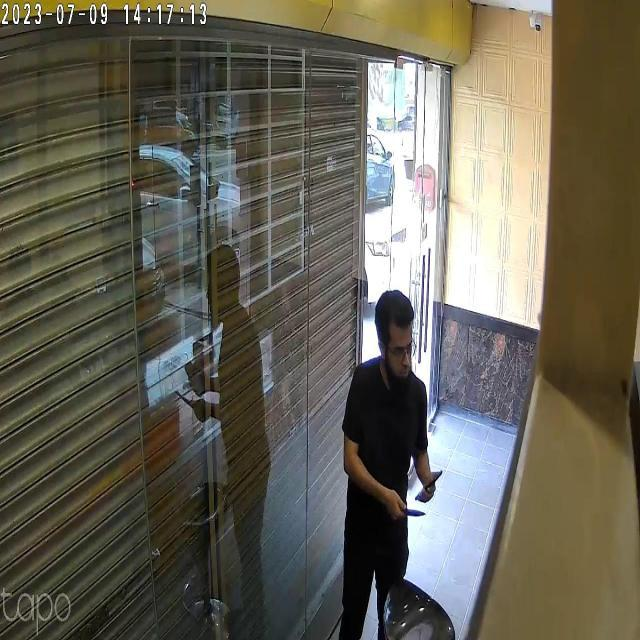Knife: (396, 499, 430, 528)
